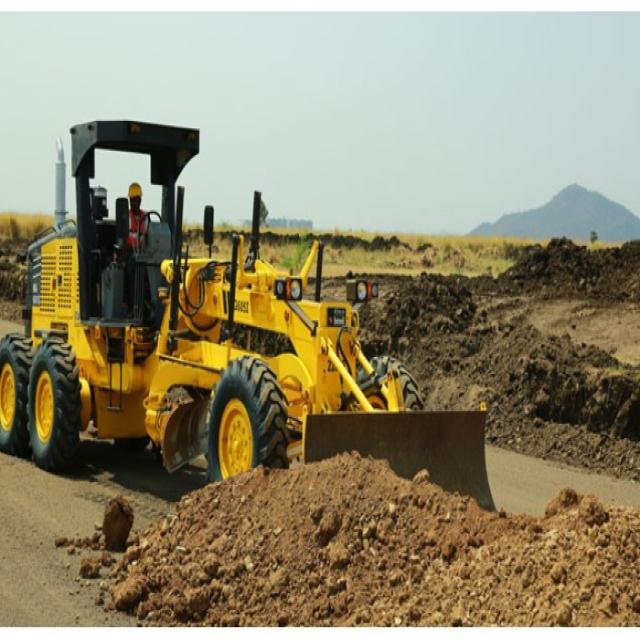buldozerpayloadergrader: (2, 117, 496, 528)
